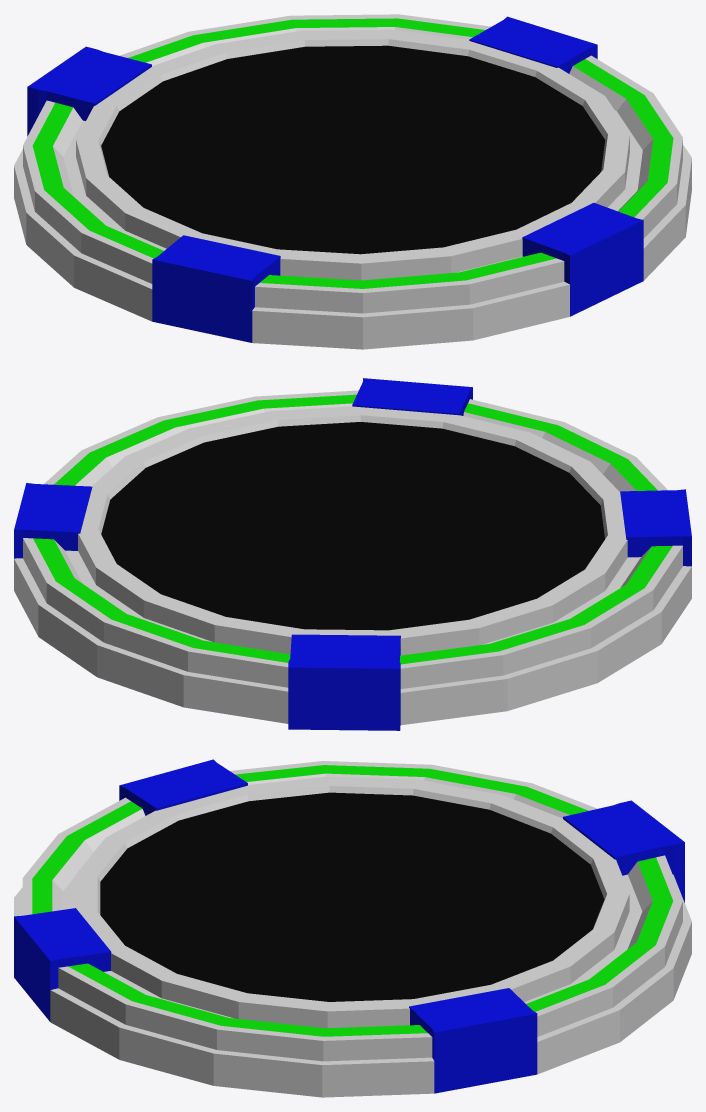
The model's file is scifi_platform.fbx.
3 renders of one model, top to bottom at view 1: azimuth 30°, elevation 25°; view 2: azimuth 150°, elevation 25°; view 3: azimuth 270°, elevation 25°, orthographic.
Visible parts, largest first — view 1: scifi_platform; view 2: scifi_platform; view 3: scifi_platform.
Boxes of the visible parts, x1,y1,x2,y2 form: scifi_platform: (14, 14, 691, 349); scifi_platform: (14, 378, 691, 730); scifi_platform: (14, 759, 691, 1097).
Size of the model in its own units: 447 by 45.21 by 446.
